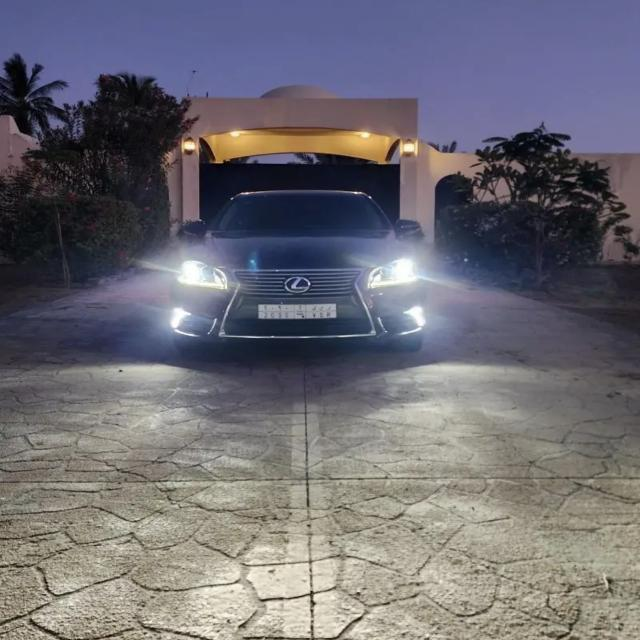license_plate: (256, 302, 339, 321)
